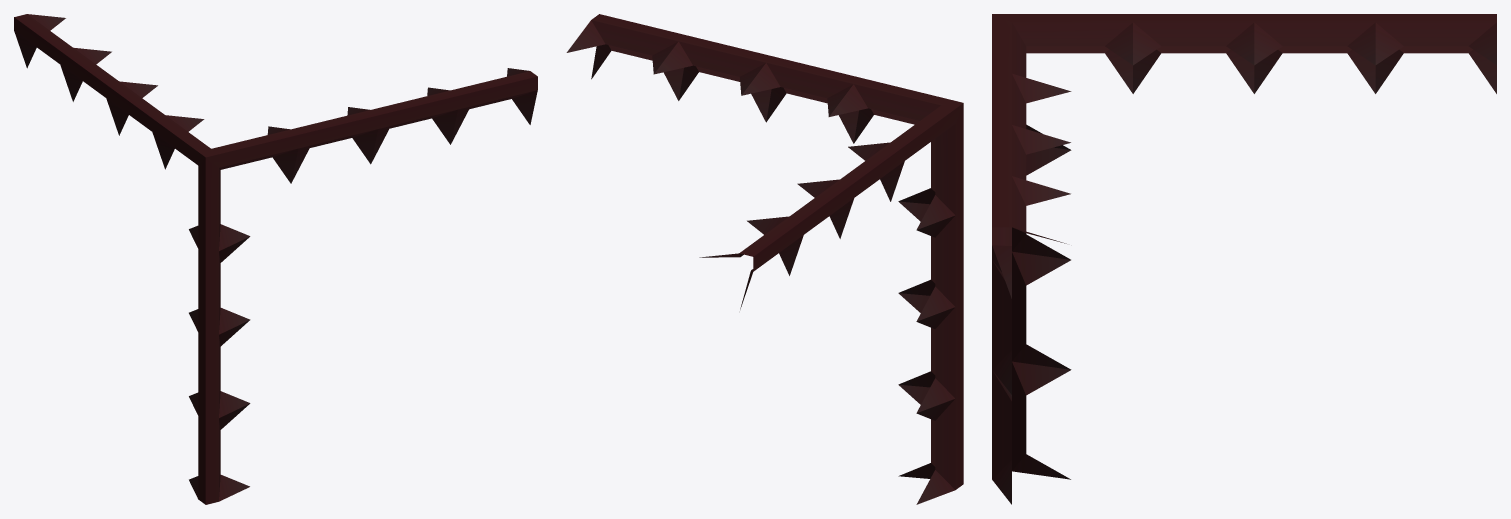
Rendered from SM_TrimMetal_TriCorn.fbx.
3 views of the same model, side by side, from view 1: azimuth 30°, elevation 25°; view 2: azimuth 150°, elevation 25°; view 3: azimuth 270°, elevation 25° (orthographic). The views are drawn at different scales.
Visible parts, largest first — view 1: SM_TrimMetal_TriCorn; view 2: SM_TrimMetal_TriCorn; view 3: SM_TrimMetal_TriCorn.
Part boxes in pixels (x1,y1,x2,y2): SM_TrimMetal_TriCorn: (14, 14, 537, 504); SM_TrimMetal_TriCorn: (566, 14, 963, 504); SM_TrimMetal_TriCorn: (992, 14, 1496, 504).
Bounding box in the file's own units: 416 × 416 × 416.
1 material, 1 textured.
